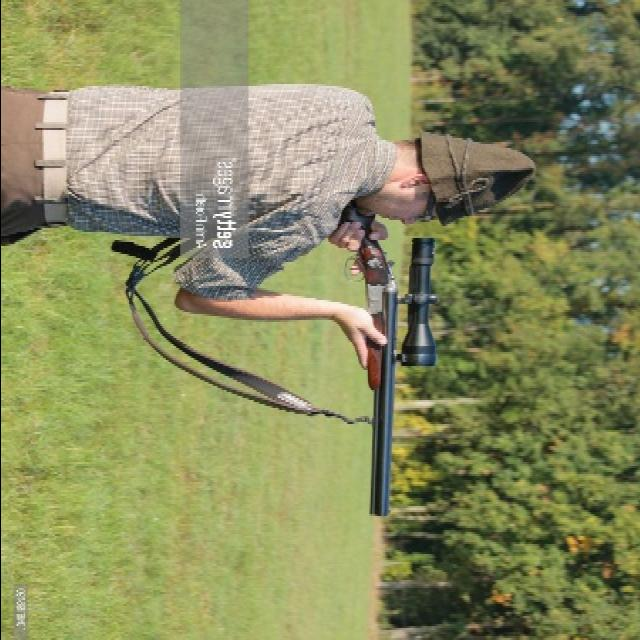rifle: (333, 211, 455, 535)
